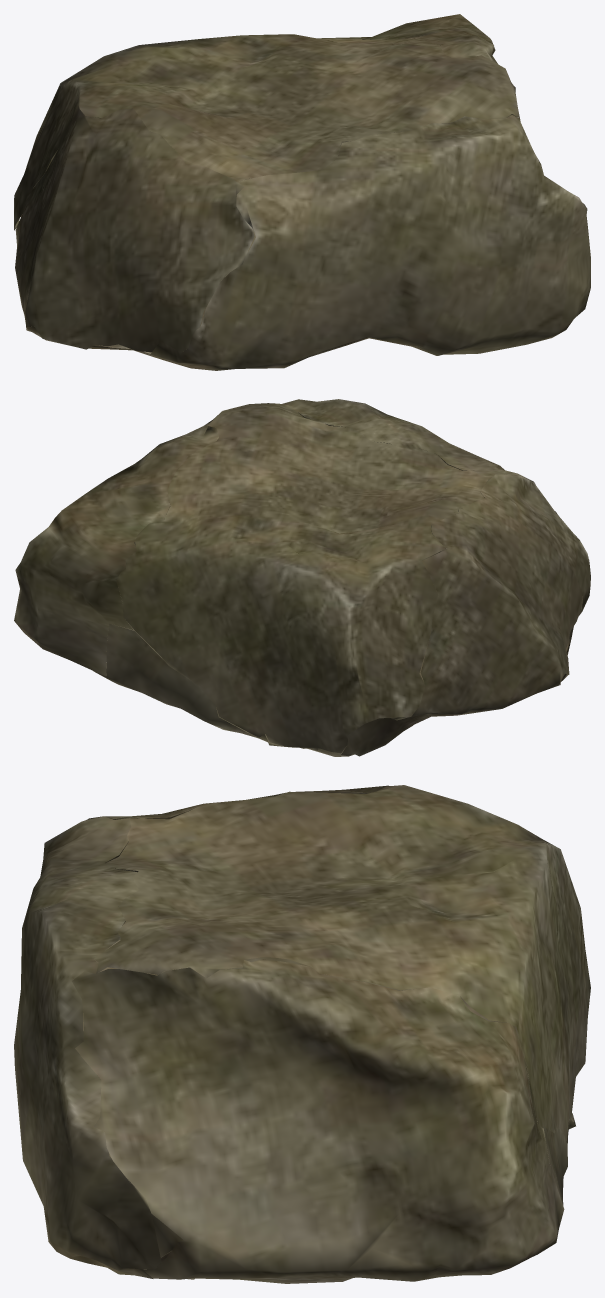
Rendered from rock_moss_set_02_7.glb.
3 views of the same model, one above another, from view 1: azimuth 30°, elevation 25°; view 2: azimuth 150°, elevation 25°; view 3: azimuth 270°, elevation 25° (orthographic). The views are drawn at different scales.
Visible parts, largest first — view 1: rock_moss_set_02_rock07; view 2: rock_moss_set_02_rock07; view 3: rock_moss_set_02_rock07.
Boxes of the visible parts, box(x1,y1,x2,y2) form: rock_moss_set_02_rock07: box(14, 14, 590, 370); rock_moss_set_02_rock07: box(14, 399, 590, 756); rock_moss_set_02_rock07: box(14, 785, 590, 1283).
Size of the model in its own units: 1.69 by 0.7451 by 1.22.
Materials: 1 (1 with a texture image).
